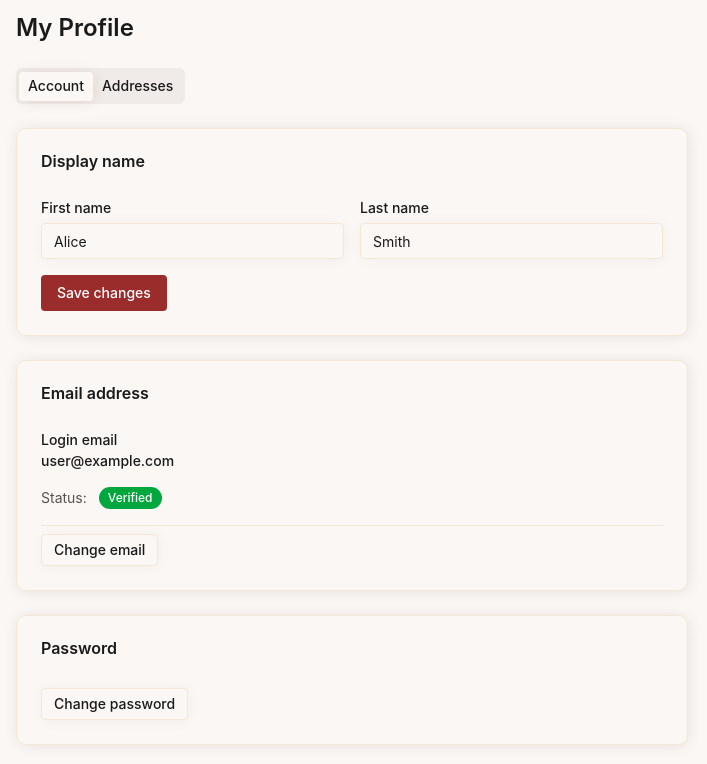
Test: ProfilePageClient › renders the Default Addresses section and addresses list
# Switch to the Addresses tab
Click the tab "Addresses".
click(138, 86)  # box top-left (93, 72), bottom-right (182, 100)
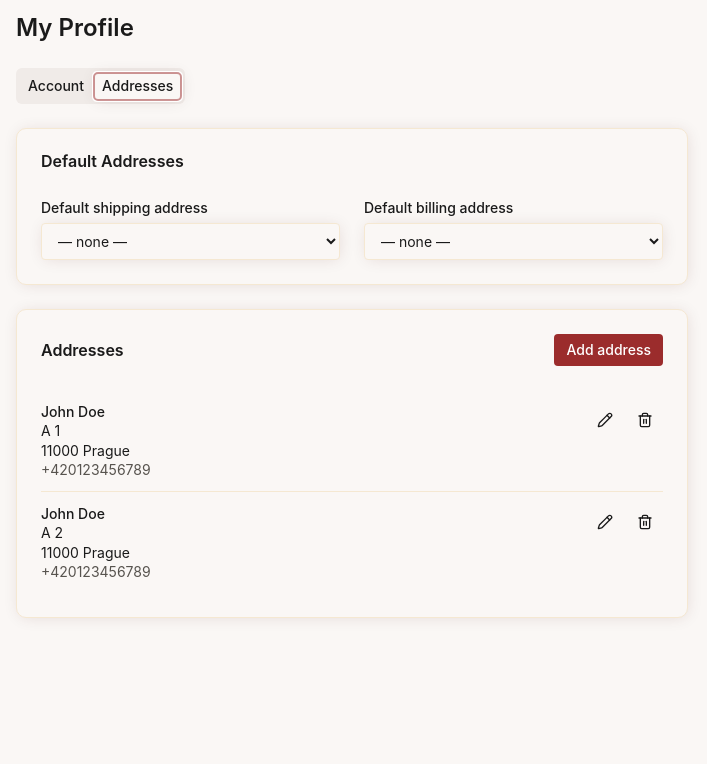
expect the text "Default Addresses" is shown: met, box top-left (41, 151), bottom-right (184, 171)
expect the list with test id "address-list" is shown: met, box top-left (41, 390), bottom-right (663, 593)
expect the list item with test id "address-item-1" is shown: met, box top-left (41, 390), bottom-right (663, 492)
